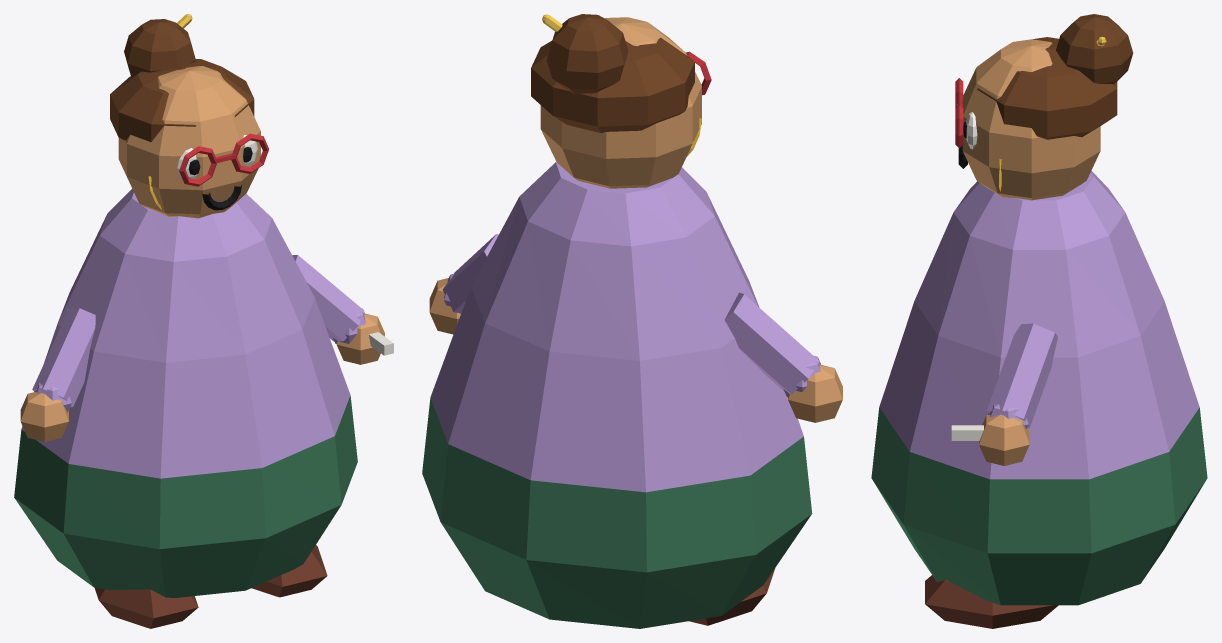
Rendered from npc_maestra.glb.
The picture shows the model from 3 angles, left to right: view 1: azimuth 30°, elevation 25°; view 2: azimuth 150°, elevation 25°; view 3: azimuth 270°, elevation 25°; orthographic projection. The views are drawn at different scales.
Parts seen in each view (by area): view 1: body_teacher_cardigan, body_teacher_skirt, head_skin_arena, head_hair_brown, arms_teacher_cardigan, legs_teacher_shoes, arms_skin_arena, face_glasses_red, face_black; view 2: body_teacher_cardigan, body_teacher_skirt, head_hair_brown, head_skin_arena, arms_teacher_cardigan, arms_skin_arena, legs_teacher_shoes; view 3: body_teacher_cardigan, body_teacher_skirt, head_skin_arena, head_hair_brown, arms_teacher_cardigan, legs_teacher_shoes, arms_skin_arena, face_glasses_red, props_white.
Part boxes in pixels (x1,y1,x2,y2): body_teacher_cardigan: (21,189,350,478); body_teacher_skirt: (14,395,357,597); head_skin_arena: (118,66,260,218); head_hair_brown: (110,19,254,141); arms_teacher_cardigan: (32,255,365,412); legs_teacher_shoes: (94,545,327,628); arms_skin_arena: (20,313,384,441); face_glasses_red: (179,133,268,186); face_black: (188,147,252,210); body_teacher_cardigan: (430,162,803,492); body_teacher_skirt: (422,398,812,628); head_hair_brown: (531,14,694,133); head_skin_arena: (540,17,701,188); arms_teacher_cardigan: (442,234,821,396); arms_skin_arena: (429,278,842,422); legs_teacher_shoes: (689,568,775,625); body_teacher_cardigan: (879,171,1199,479); body_teacher_skirt: (871,407,1207,605); head_skin_arena: (962,39,1100,200); head_hair_brown: (977,14,1133,139); arms_teacher_cardigan: (987,323,1057,428); legs_teacher_shoes: (925,575,1058,628); arms_skin_arena: (979,414,1029,465); face_glasses_red: (955,78,963,148); props_white: (951,425,983,440).
Bounding box in the file's own units: 1.13 × 1.61 × 0.86.
